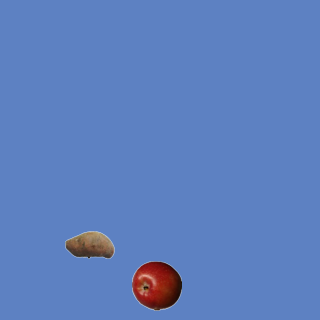Apple Braeburn: (131, 260, 181, 310)
Potato Sweet: (64, 219, 114, 269)
